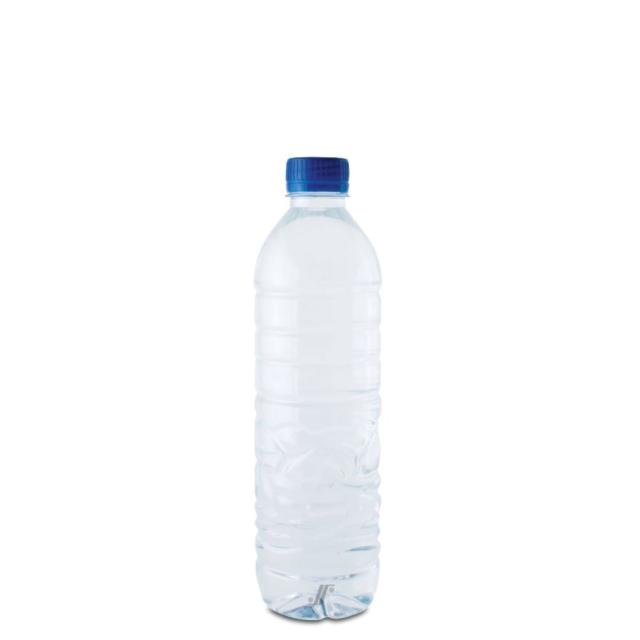bottle: (253, 155, 385, 623)
